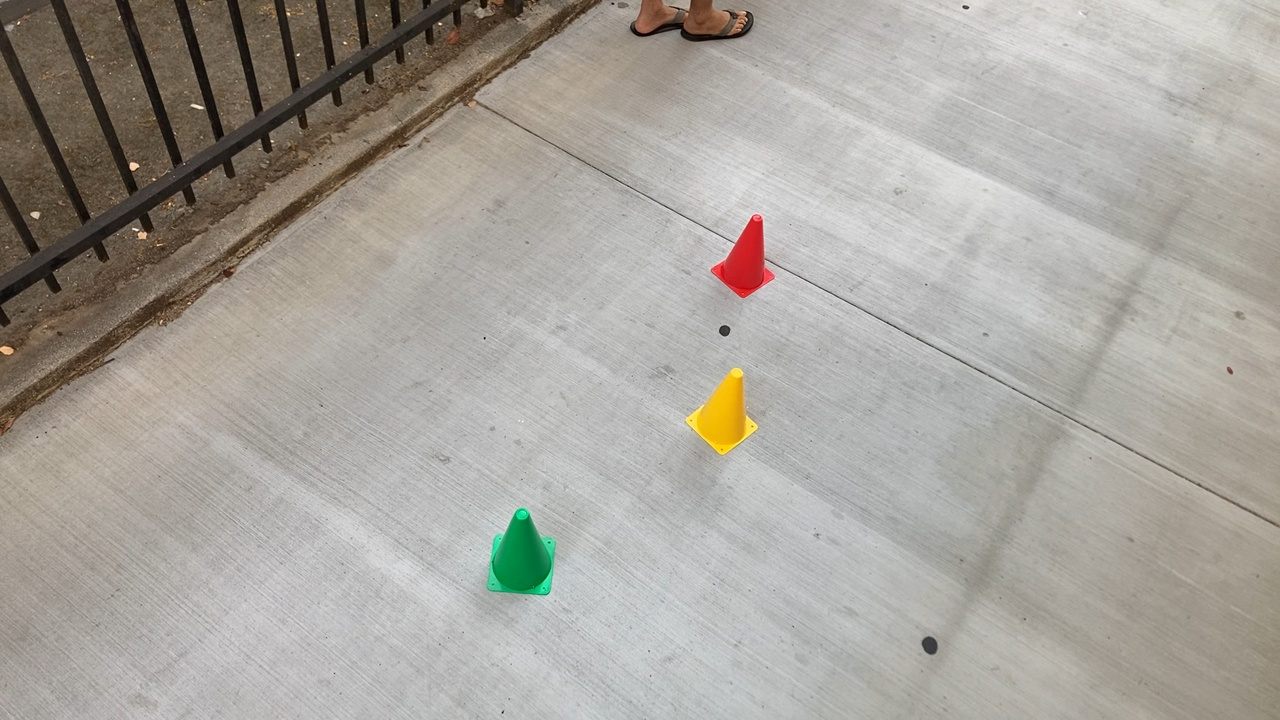green_cone: (484, 506, 563, 603)
red_cone: (707, 211, 779, 301)
yellow_cone: (682, 363, 760, 459)
